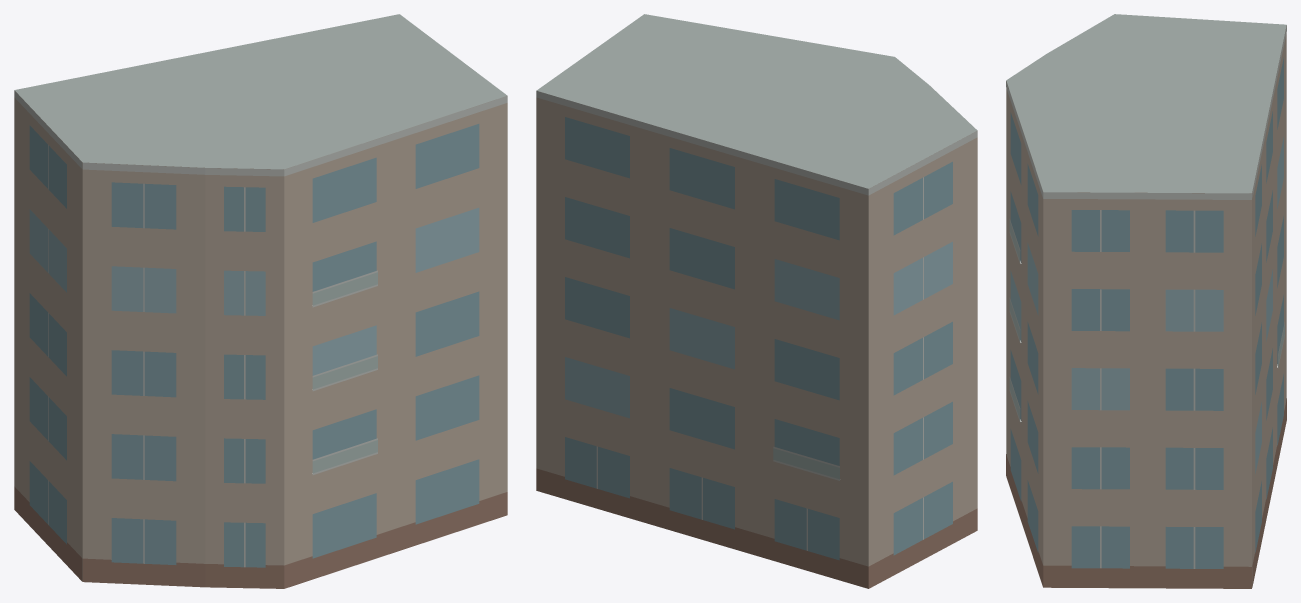
File: survey-upis-33008741.glb
3 renders of one model, left to right at view 1: azimuth 30°, elevation 25°; view 2: azimuth 150°, elevation 25°; view 3: azimuth 270°, elevation 25°, orthographic. The views are drawn at different scales.
Visible parts, largest first — view 1: survey-upis-33008741.tmp; view 2: survey-upis-33008741.tmp; view 3: survey-upis-33008741.tmp.
Part boxes in pixels (box(x1,y1,x2,y2)): survey-upis-33008741.tmp: box(14, 14, 507, 588); survey-upis-33008741.tmp: box(536, 14, 977, 588); survey-upis-33008741.tmp: box(1006, 14, 1286, 588).
Size of the model in its own units: 14.11 by 14.5 by 9.33.
